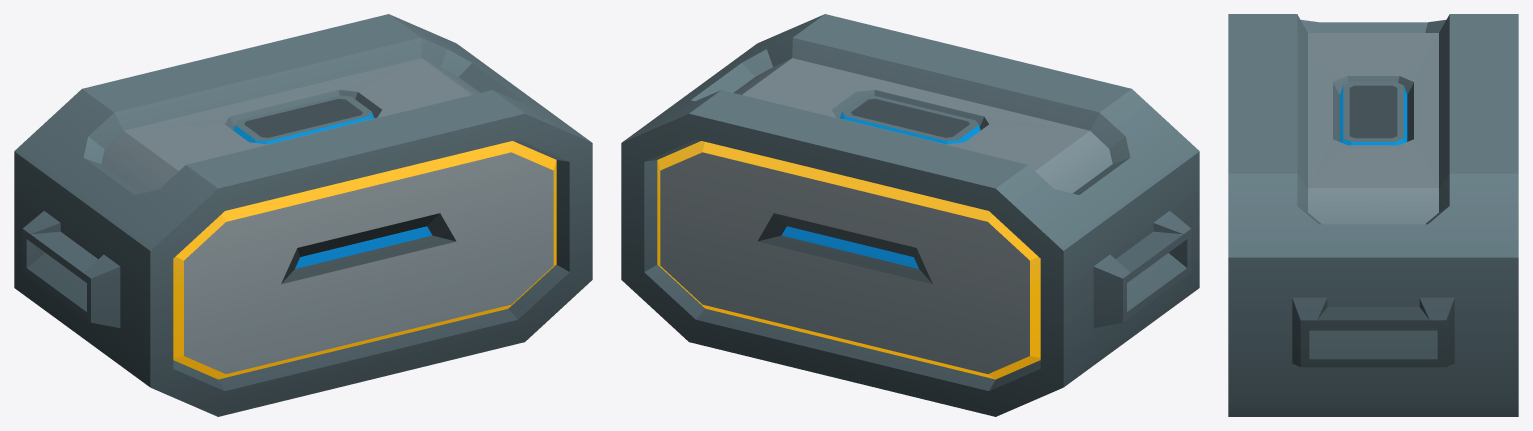
File: Battery_001.glb
3 views of the same model, side by side, from view 1: azimuth 30°, elevation 25°; view 2: azimuth 150°, elevation 25°; view 3: azimuth 270°, elevation 25° (orthographic). The views are drawn at different scales.
Visible parts, largest first — view 1: Battery_001; view 2: Battery_001; view 3: Battery_001.
Boxes of the visible parts, bbox=[...] form: Battery_001: bbox=[14, 14, 592, 416]; Battery_001: bbox=[621, 14, 1199, 416]; Battery_001: bbox=[1228, 14, 1518, 416].
Size of the model in its own units: 1 by 0.4428 by 0.4787.
Materials: 2 (2 with a texture image).
